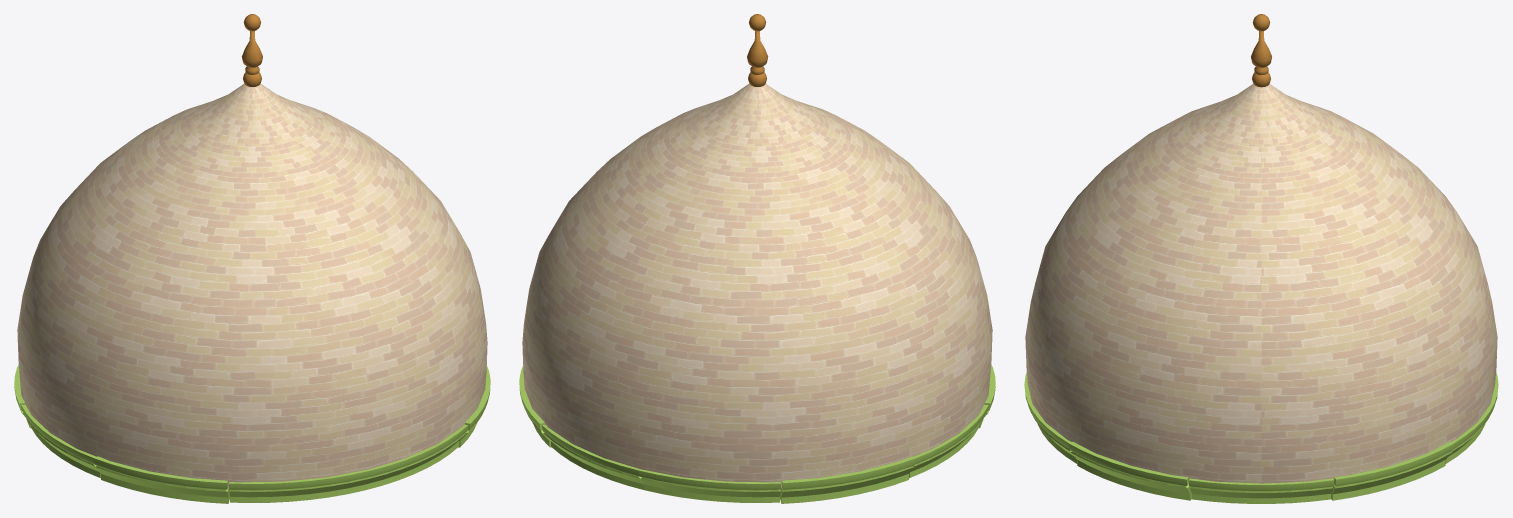
Rendered from SM_dome_02.fbx.
3 views of the same model, side by side, from view 1: azimuth 30°, elevation 25°; view 2: azimuth 150°, elevation 25°; view 3: azimuth 270°, elevation 25° (orthographic).
Parts seen in each view (by area): view 1: Object32882; view 2: Object32882; view 3: Object32882.
Boxes of the visible parts, left/top/right/bottom form: Object32882: left=14, top=14, right=490, bottom=503; Object32882: left=519, top=14, right=995, bottom=503; Object32882: left=1024, top=14, right=1498, bottom=503.
Size of the model in its own units: 454 by 418 by 455.
